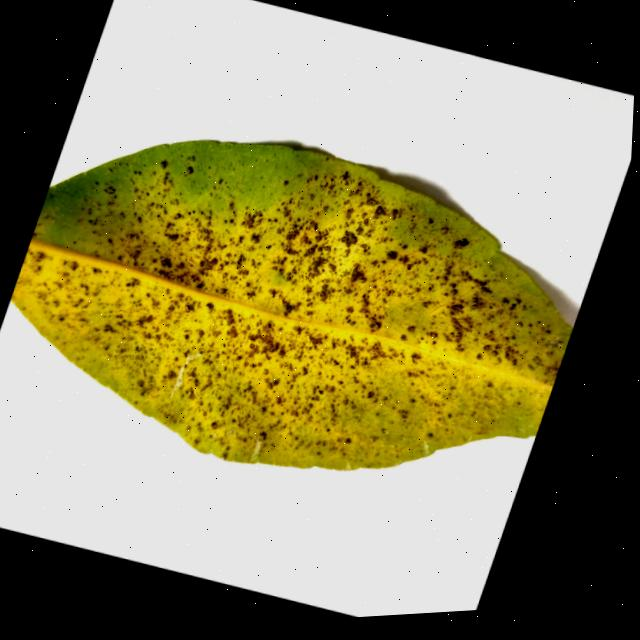melanose: (11, 140, 572, 470)
